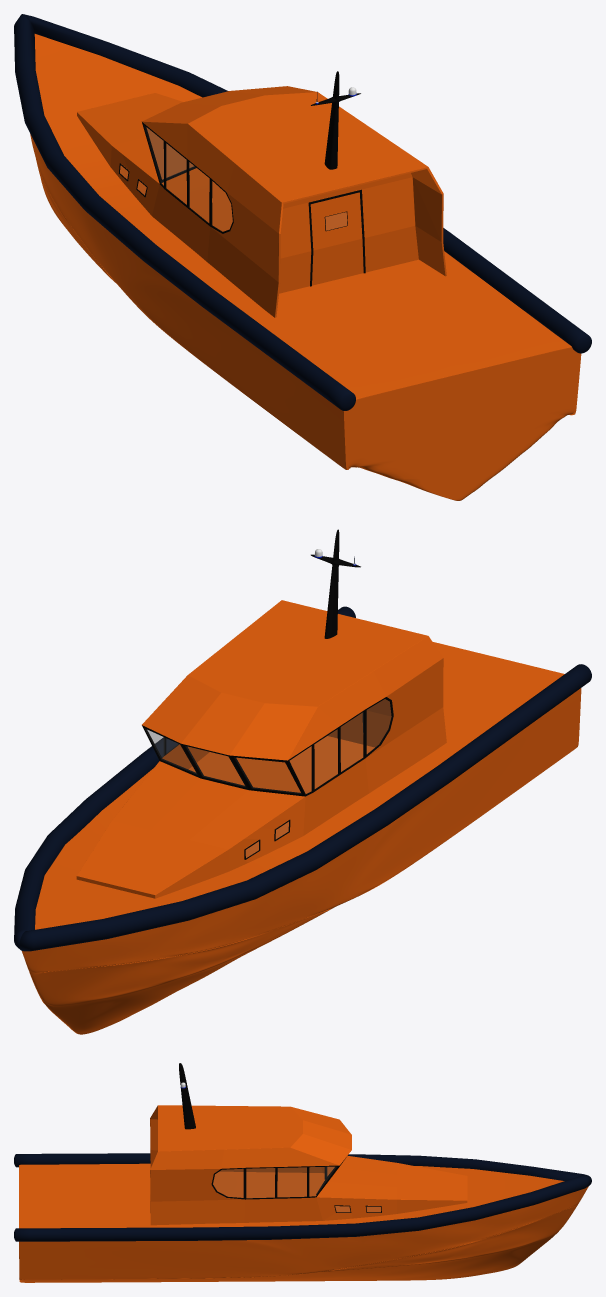
Rendered from ship-rescue-hq.glb.
3 views of the same model, one above another, from view 1: azimuth 30°, elevation 25°; view 2: azimuth 150°, elevation 25°; view 3: azimuth 270°, elevation 25° (orthographic). The views are drawn at different scales.
Parts seen in each view (by area): view 1: Cube_0, Cube.001_1, Cube.002_6, Cube.004_2, Cube.005_3; view 2: Cube.001_1, Cube_0, Cube.002_6, Cube.004_2, Cube.005_3; view 3: Cube_0, Cube.001_1, Cube.004_2, Cube.002_6, Cube.005_3.
Boxes of the visible parts, x1,y1,x2,y2 form: Cube_0: [30, 34, 581, 500]; Cube.001_1: [77, 86, 446, 317]; Cube.002_6: [14, 14, 355, 410]; Cube.004_2: [24, 14, 591, 353]; Cube.005_3: [311, 71, 360, 169]; Cube.001_1: [76, 600, 446, 898]; Cube_0: [22, 642, 581, 1034]; Cube.002_6: [19, 664, 591, 951]; Cube.004_2: [14, 606, 355, 949]; Cube.005_3: [311, 529, 360, 638]; Cube_0: [19, 1163, 588, 1282]; Cube.001_1: [150, 1105, 467, 1225]; Cube.004_2: [14, 1175, 591, 1241]; Cube.002_6: [14, 1153, 585, 1180]; Cube.005_3: [179, 1063, 195, 1129].
Size of the model in its own units: 3.5 by 4.47 by 10.68.
